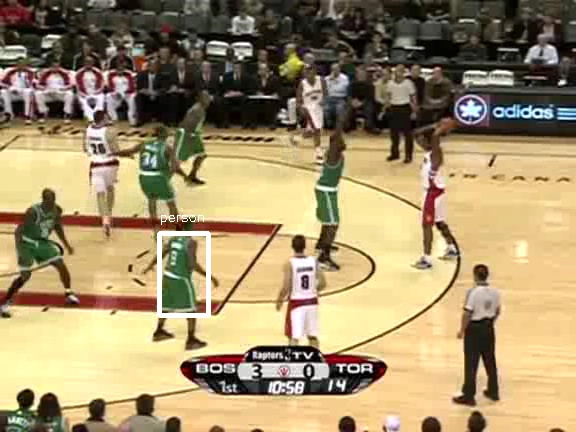person: (162, 233, 196, 314), (161, 233, 195, 314), (163, 233, 197, 314), (162, 232, 196, 313), (162, 234, 196, 315)
target_negative: (168, 363, 524, 415), (330, 128, 569, 194), (96, 327, 363, 361), (374, 180, 534, 223), (308, 86, 458, 119), (478, 254, 500, 338)
